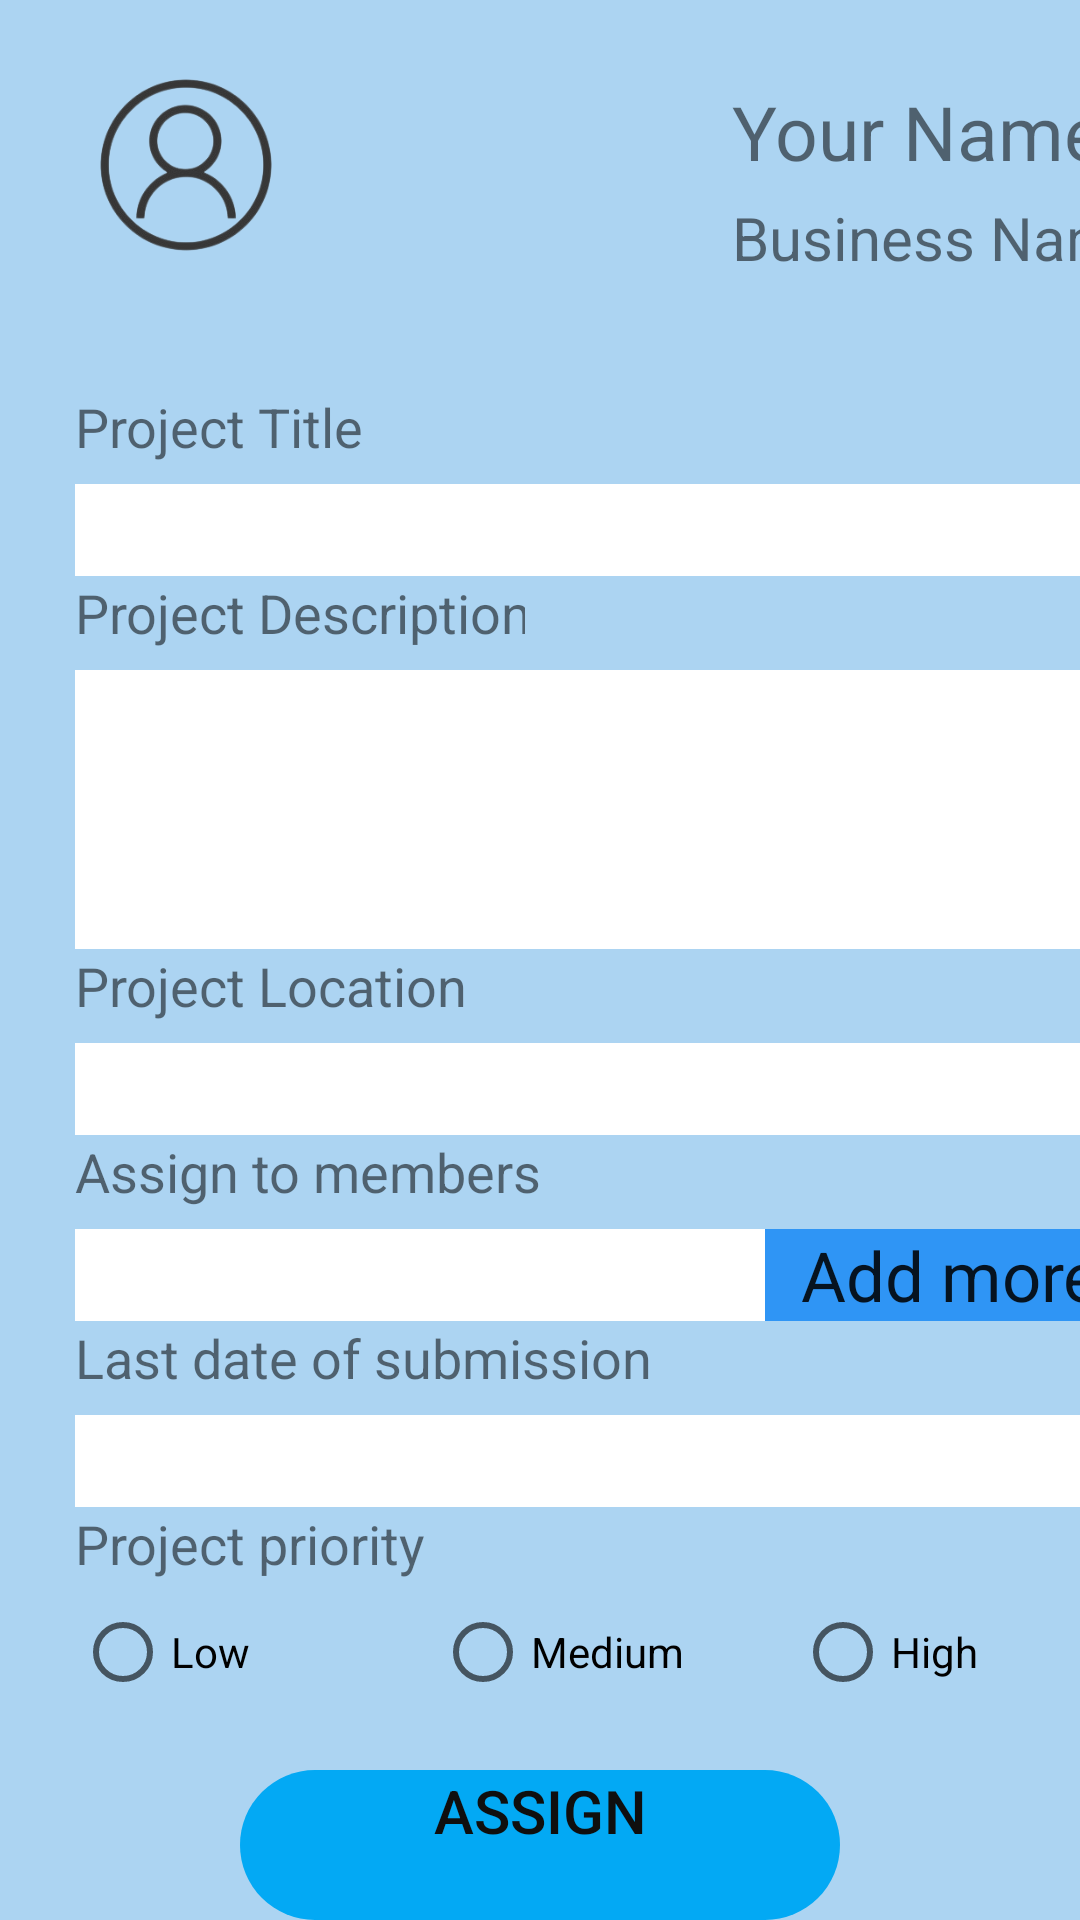

Icons on this 1080×1920 Android screen, each with the point to tap as [x,y]:
profile: [186,165]
